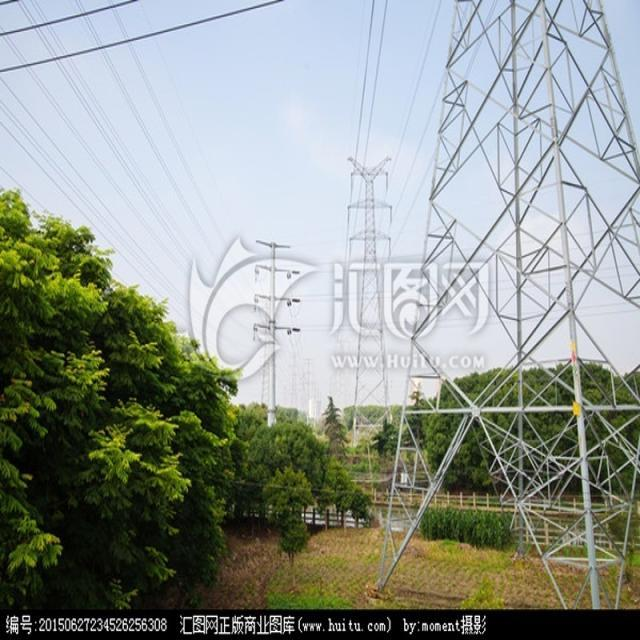non-critical vegetation: (375, 4, 638, 604), (335, 142, 403, 497)
